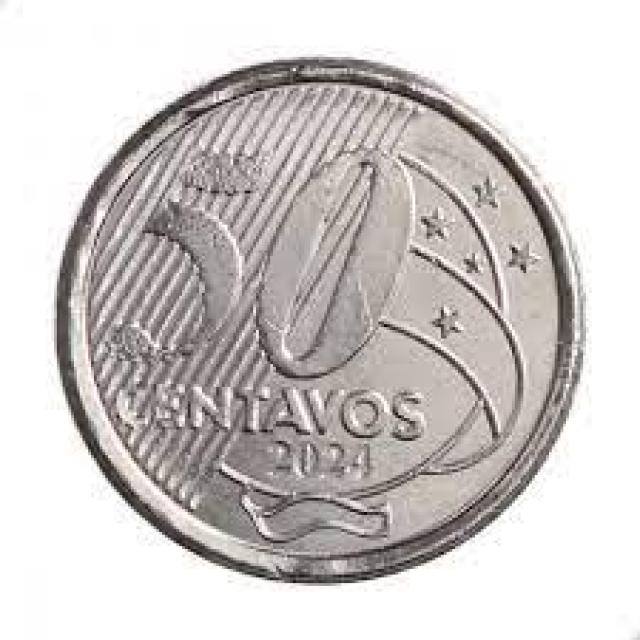50 cent: (55, 59, 586, 584)
